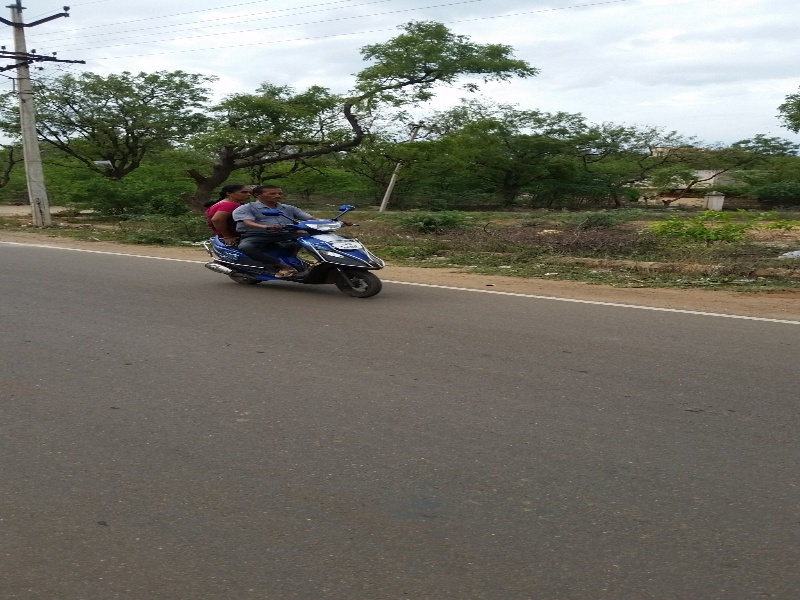biker: (186, 142, 418, 310)
nohelmet: (252, 180, 290, 209), (220, 175, 258, 204)
